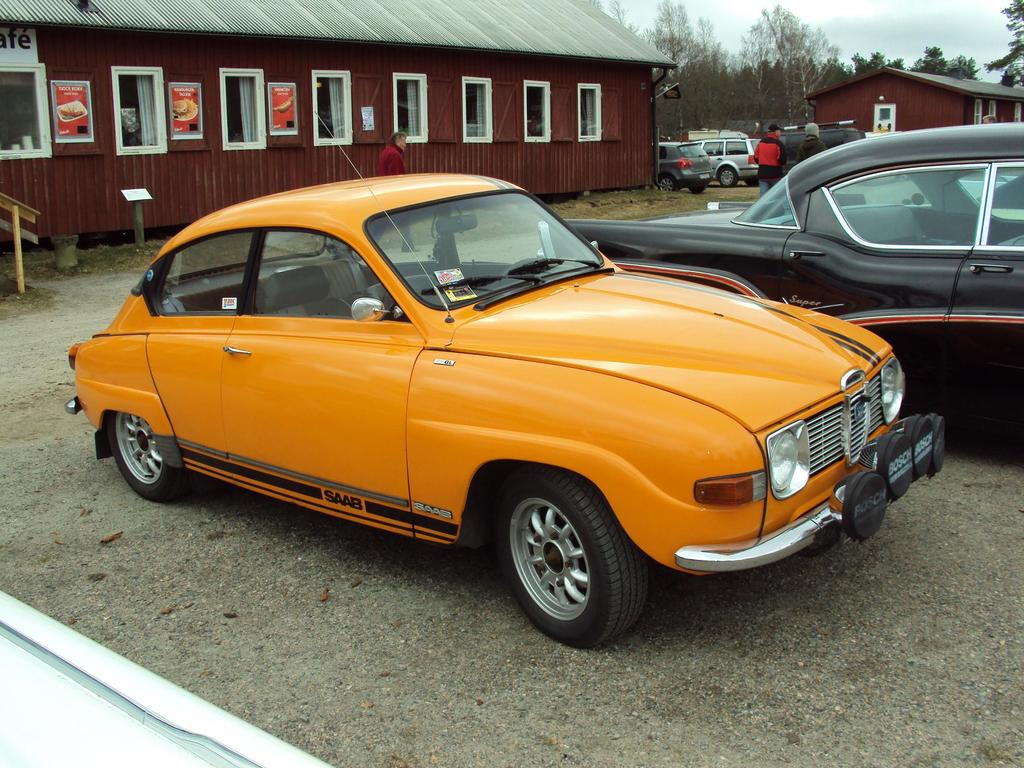Car: (64, 119, 1023, 648), (558, 124, 1023, 433)
